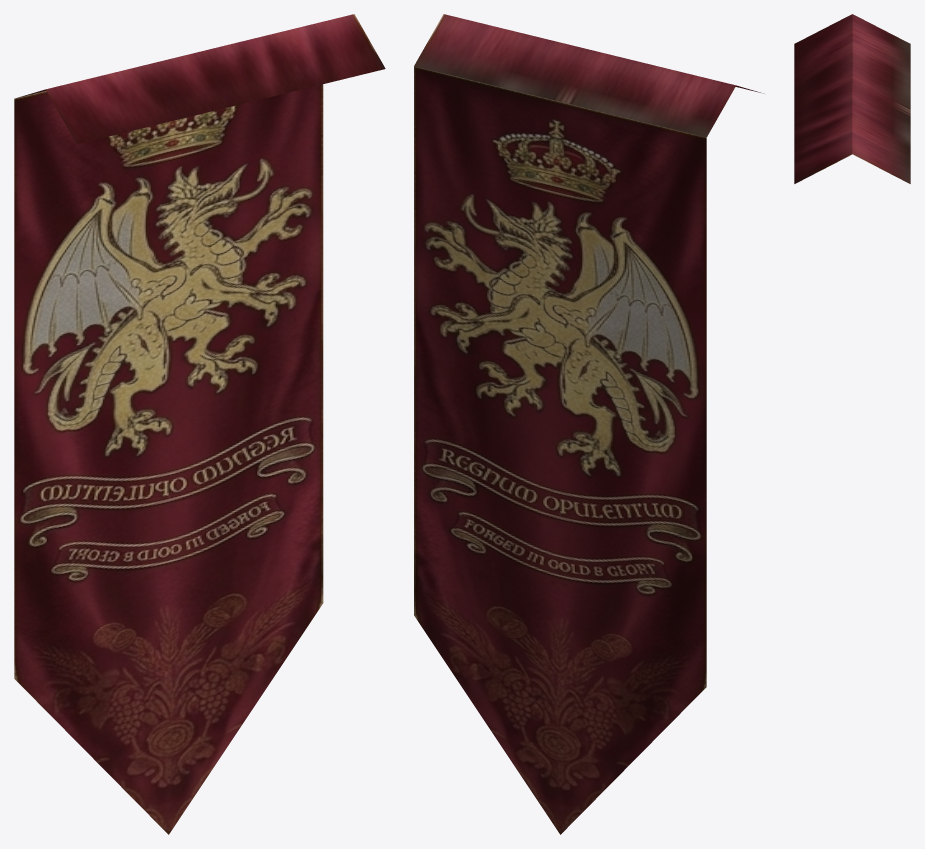
Rendered from Banner.fbx.
3 renders of one model, left to right at view 1: azimuth 30°, elevation 25°; view 2: azimuth 150°, elevation 25°; view 3: azimuth 270°, elevation 25°, orthographic. The views are drawn at different scales.
Visible parts, largest first — view 1: Banner; view 2: Banner; view 3: Banner.
Boxes of the visible parts, box(x1,y1,x2,y2) form: Banner: box(14, 14, 385, 834); Banner: box(414, 14, 763, 834); Banner: box(794, 14, 910, 183).
Size of the model in its own units: 200 by 498 by 70.
Materials: 1 (1 with a texture image).
